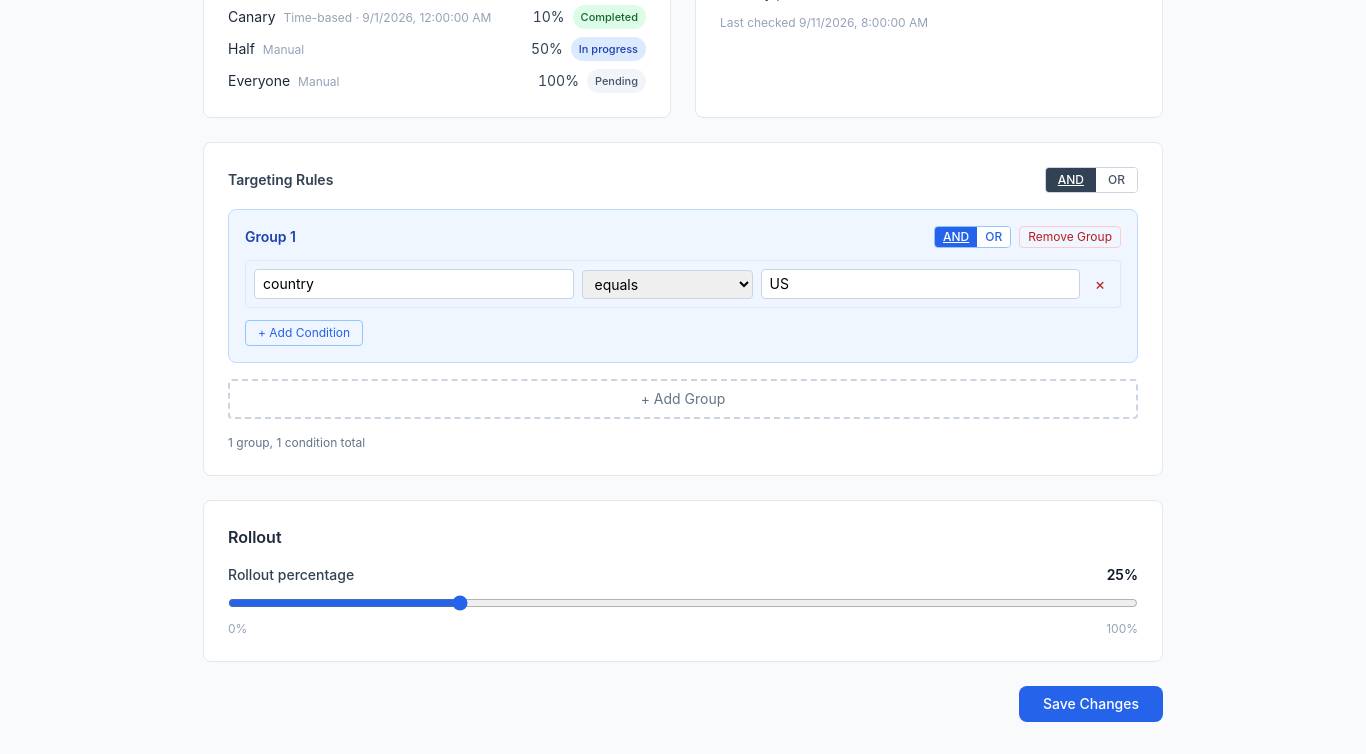
Scenario: FeatureFlagDetailPage › saves the rollout percentage through PUT /feature-flags/{id}, leaving untouched rules out
The width and height of the screenshot is (1366, 754).
(page scrolled)
Step 1. Set the slider with test id "rollout-percentage" to "60" → [772, 603], box [228, 595, 1138, 611]
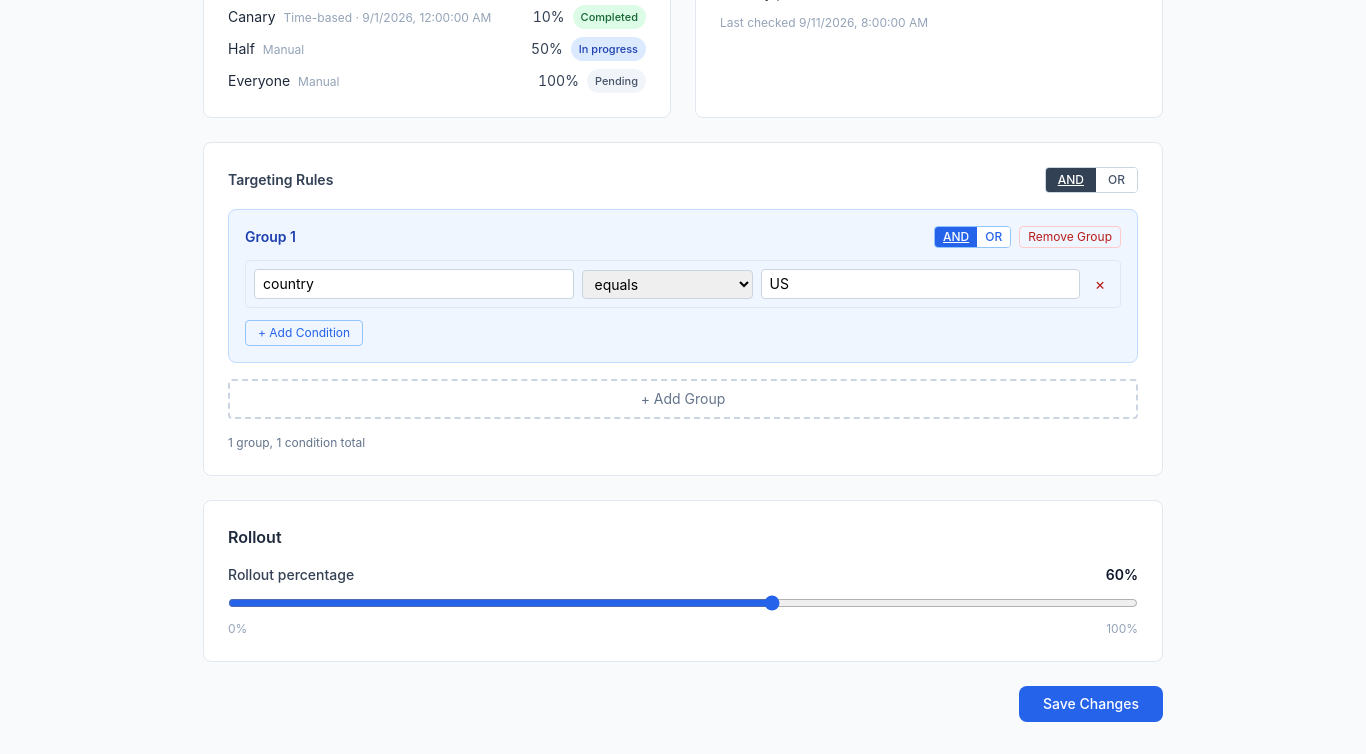
Now the text with test id "rollout-value" reads "60%", box [1106, 565, 1138, 585]
Step 2. Click the button with test id "save-flag" → [1091, 704], box [1019, 686, 1163, 722]
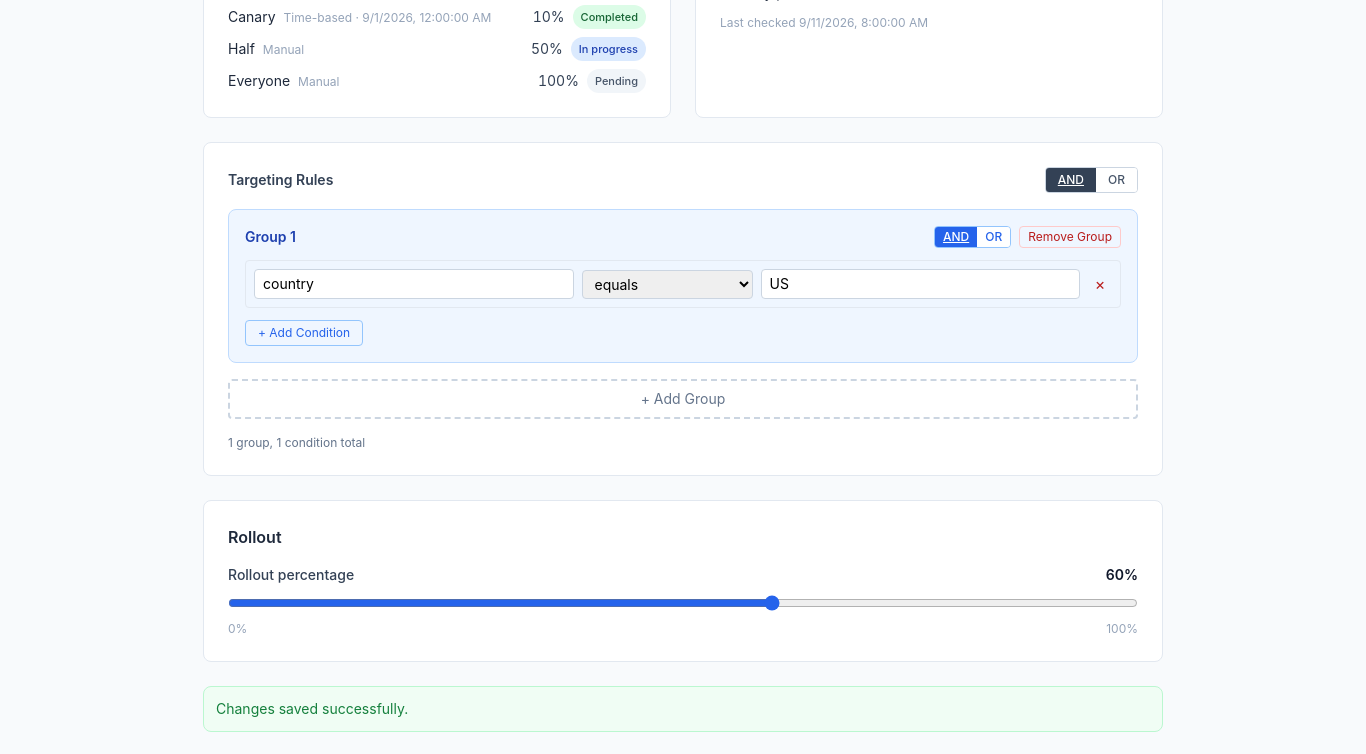
Now the message "Changes saved successfully." is shown, box [203, 686, 1163, 732]
